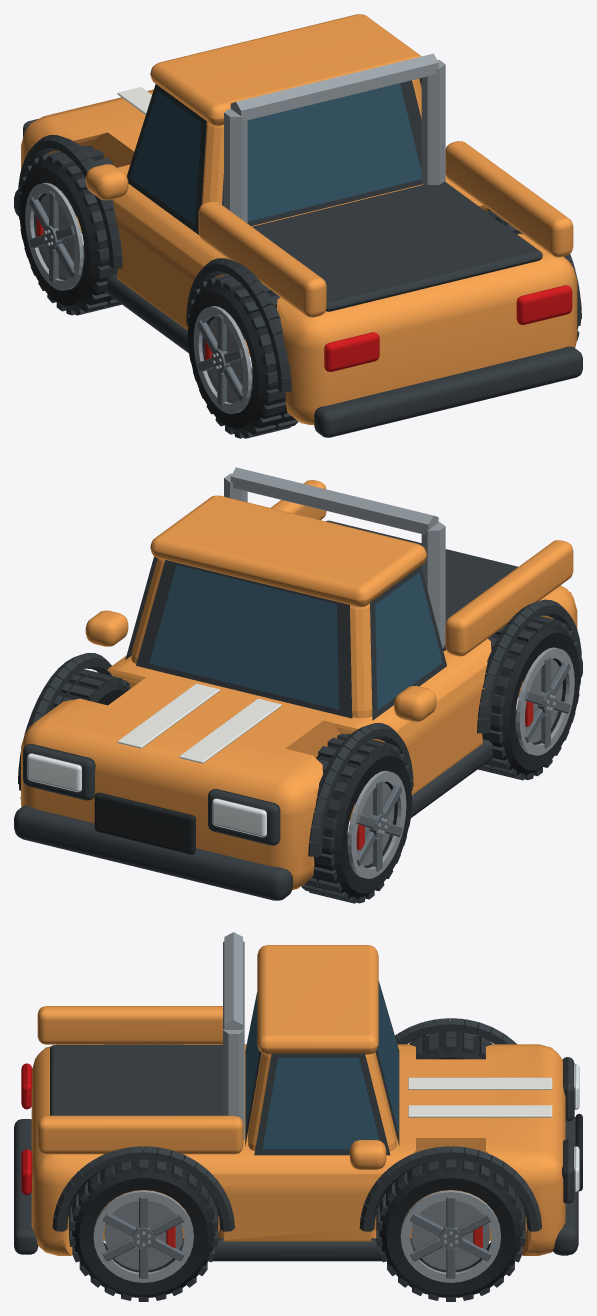
The model's file is car_pickup.glb.
3 renders of one model, top to bottom at view 1: azimuth 30°, elevation 25°; view 2: azimuth 150°, elevation 25°; view 3: azimuth 270°, elevation 25°, orthographic. The views are drawn at different scales.
Visible parts, largest first — view 1: Body.004, WheelMesh.018, WheelMesh.016; view 2: Body.004, WheelMesh.016, WheelMesh.018, WheelMesh.017; view 3: Body.004, WheelMesh.019, WheelMesh.017, WheelMesh.016.
Boxes of the visible parts, x1,y1,x2,y2 form: Body.004: [14, 14, 582, 437]; WheelMesh.018: [187, 274, 298, 438]; WheelMesh.016: [18, 145, 121, 315]; Body.004: [14, 467, 582, 900]; WheelMesh.016: [301, 733, 412, 903]; WheelMesh.018: [478, 616, 581, 780]; WheelMesh.017: [19, 669, 131, 798]; Body.004: [14, 932, 582, 1261]; WheelMesh.019: [69, 1159, 218, 1301]; WheelMesh.017: [376, 1148, 525, 1301]; WheelMesh.016: [409, 1031, 492, 1059].
Bounding box in the file's own units: 2.64 × 2.09 × 4.21.
